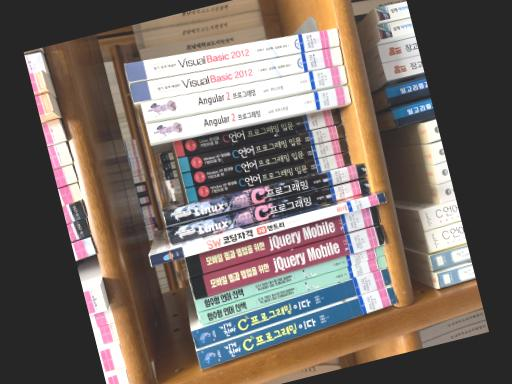book-spine: (148, 191, 387, 266), (196, 285, 397, 368), (190, 267, 391, 349), (189, 223, 386, 300), (183, 205, 381, 277), (166, 177, 370, 244), (196, 255, 387, 325), (161, 162, 367, 226), (193, 244, 384, 312), (145, 85, 351, 143), (129, 46, 342, 102), (123, 27, 339, 81), (140, 65, 347, 121), (184, 150, 351, 203), (177, 123, 346, 172), (181, 138, 348, 187), (172, 108, 341, 156)
